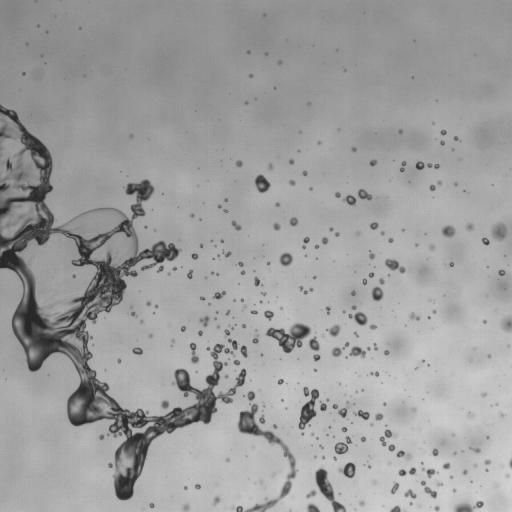droplet: (306, 467, 346, 511), (265, 322, 311, 353), (379, 428, 397, 451), (332, 401, 351, 418), (334, 436, 351, 454), (254, 174, 270, 193), (491, 222, 507, 241), (348, 311, 367, 325), (338, 462, 355, 477), (279, 252, 292, 266), (371, 286, 383, 301), (421, 467, 437, 478), (441, 225, 455, 237), (326, 324, 340, 336), (501, 316, 511, 332), (358, 189, 372, 200), (354, 410, 369, 420), (343, 195, 356, 205), (306, 503, 320, 511), (404, 489, 416, 498), (264, 310, 274, 320), (199, 316, 209, 326), (390, 482, 399, 493), (213, 291, 225, 299), (289, 217, 298, 226), (415, 161, 425, 169), (409, 312, 419, 320), (319, 401, 327, 411), (161, 400, 169, 409), (132, 347, 142, 354), (273, 222, 280, 230), (370, 222, 378, 229), (466, 223, 473, 231), (482, 237, 489, 245), (375, 413, 383, 420), (442, 462, 450, 469), (213, 496, 219, 505), (235, 160, 242, 167), (182, 504, 189, 511), (369, 160, 377, 166), (223, 251, 231, 257), (369, 251, 375, 259), (254, 277, 260, 285), (259, 415, 265, 423), (432, 448, 438, 456), (187, 269, 192, 278), (370, 371, 379, 376), (191, 253, 198, 259), (233, 359, 240, 365), (429, 184, 435, 190), (429, 244, 435, 250), (360, 436, 366, 442), (484, 459, 490, 465), (322, 237, 327, 244), (498, 270, 505, 275), (325, 306, 330, 313), (369, 324, 376, 329), (373, 343, 378, 350), (440, 130, 446, 135), (289, 180, 295, 185), (379, 278, 384, 284), (277, 379, 283, 384), (436, 481, 442, 486), (359, 500, 364, 506), (289, 159, 294, 164), (268, 164, 273, 169), (335, 192, 340, 197), (238, 261, 243, 266), (369, 272, 374, 277), (468, 412, 473, 417), (99, 434, 104, 439), (462, 469, 467, 474), (195, 484, 200, 489), (149, 503, 154, 508), (434, 506, 439, 511), (251, 310, 257, 314), (198, 330, 202, 336), (341, 427, 347, 431), (454, 136, 459, 140), (351, 147, 356, 151), (302, 171, 307, 175), (437, 180, 441, 185), (388, 238, 393, 242), (448, 262, 453, 266), (362, 279, 366, 284), (146, 301, 150, 306), (131, 312, 136, 316), (181, 326, 185, 331), (384, 350, 388, 355), (117, 358, 121, 363), (481, 392, 486, 396), (398, 129, 402, 133), (440, 141, 444, 145), (275, 202, 279, 206), (190, 213, 194, 217), (329, 227, 333, 231), (335, 232, 339, 236), (241, 270, 245, 274), (351, 291, 355, 295), (200, 296, 204, 300), (352, 305, 356, 309), (226, 310, 230, 314), (242, 324, 246, 328), (354, 332, 358, 336), (487, 354, 491, 358), (243, 304, 246, 309), (217, 205, 221, 208), (432, 310, 436, 313), (483, 319, 486, 323), (500, 413, 504, 416), (373, 480, 376, 484), (247, 50, 250, 53), (278, 61, 281, 64), (249, 74, 252, 77), (224, 209, 227, 212), (381, 231, 384, 234), (315, 245, 318, 248), (267, 262, 270, 265), (173, 267, 176, 270), (313, 276, 316, 279), (262, 292, 265, 295), (216, 325, 219, 328), (230, 326, 233, 329), (149, 334, 152, 337), (225, 375, 228, 378), (383, 402, 386, 405), (273, 425, 276, 428), (320, 445, 323, 448), (333, 457, 336, 460), (226, 458, 229, 461), (506, 474, 509, 477), (265, 52, 267, 55), (245, 101, 247, 104), (129, 135, 132, 137), (318, 141, 320, 144), (454, 183, 457, 185), (224, 199, 227, 201), (72, 275, 75, 277), (155, 305, 158, 307), (421, 360, 424, 362), (412, 408, 414, 411), (370, 423, 373, 425), (420, 462, 423, 464), (474, 464, 476, 467), (450, 475, 452, 478), (184, 487, 187, 489), (409, 502, 412, 504), (22, 73, 24, 75), (94, 223, 96, 225), (357, 232, 359, 234), (200, 244, 202, 246), (415, 244, 417, 246), (211, 271, 213, 273), (241, 299, 243, 301), (172, 340, 174, 342), (415, 367, 417, 369), (314, 369, 316, 371), (326, 399, 328, 401), (311, 433, 313, 435), (487, 436, 489, 438), (454, 452, 456, 454), (388, 462, 390, 464), (368, 465, 370, 467), (259, 481, 261, 483), (453, 489, 455, 491)
ligament: (0, 104, 247, 500), (232, 391, 297, 511), (298, 386, 319, 430), (384, 258, 405, 273), (308, 336, 320, 361), (453, 501, 483, 511), (420, 481, 436, 498), (331, 342, 349, 356), (349, 346, 370, 358), (190, 342, 198, 363), (398, 467, 416, 476), (396, 450, 411, 460), (299, 286, 312, 294), (389, 505, 406, 511), (231, 221, 241, 230), (302, 237, 309, 249), (252, 333, 259, 344), (427, 163, 439, 169), (400, 161, 406, 171), (470, 447, 480, 452), (509, 458, 511, 468)
